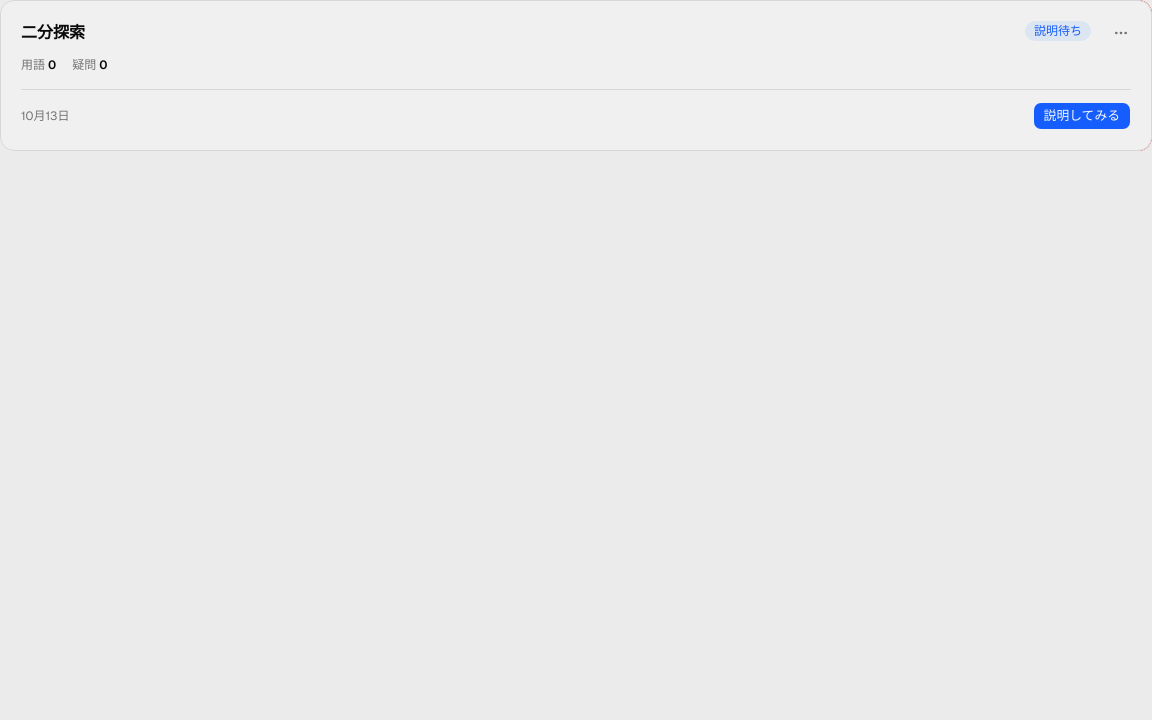
StudyMemoList deletion › hides the more-actions menu on a coarse pointer and deletes by swiping
Press the mouse on the link "二分探索" at coordinates (53, 32), box x1=21 y1=22 x2=85 y2=43
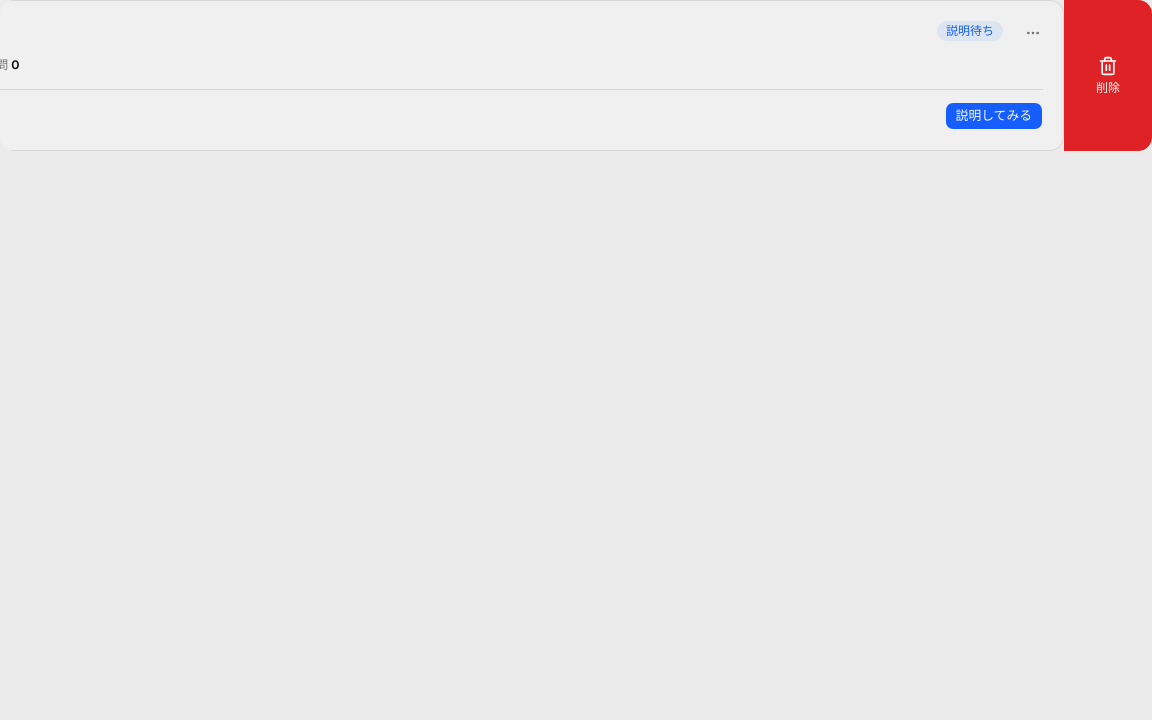
Click the button with aria-label "「二分探索」を削除".
click(1108, 76)  # box x1=1064 y1=0 x2=1151 y2=151
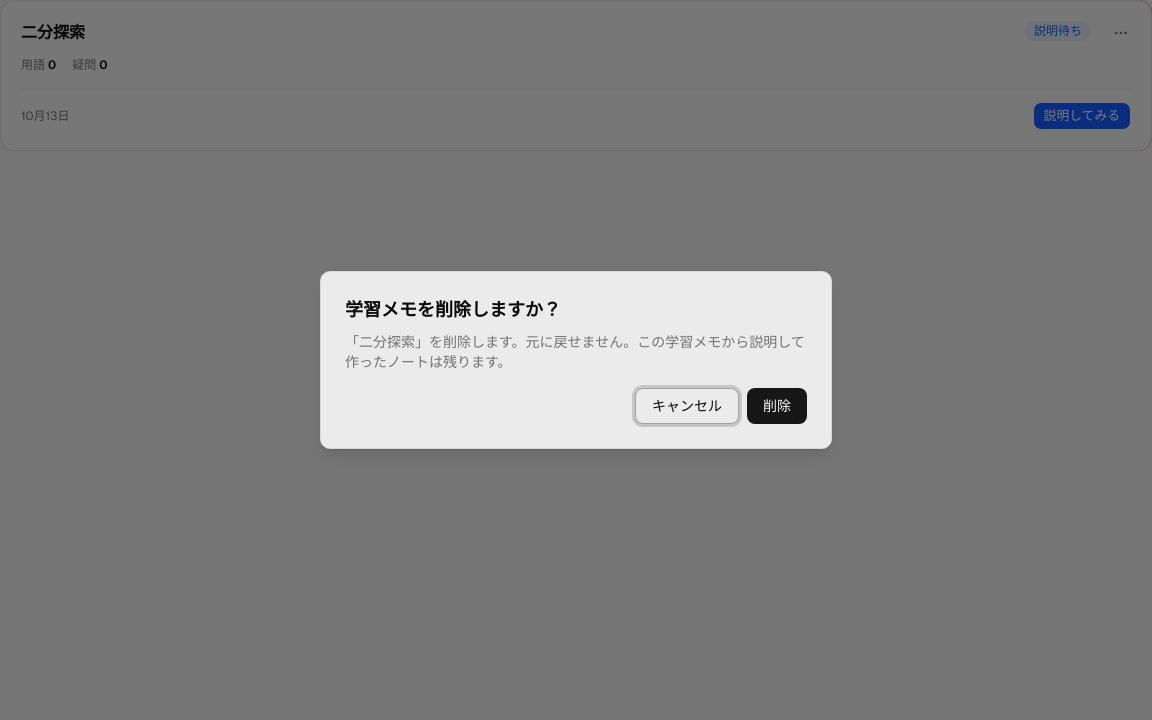
Expected: the dialog "学習メモを削除しますか？" is shown, x1=320 y1=271 x2=832 y2=449
